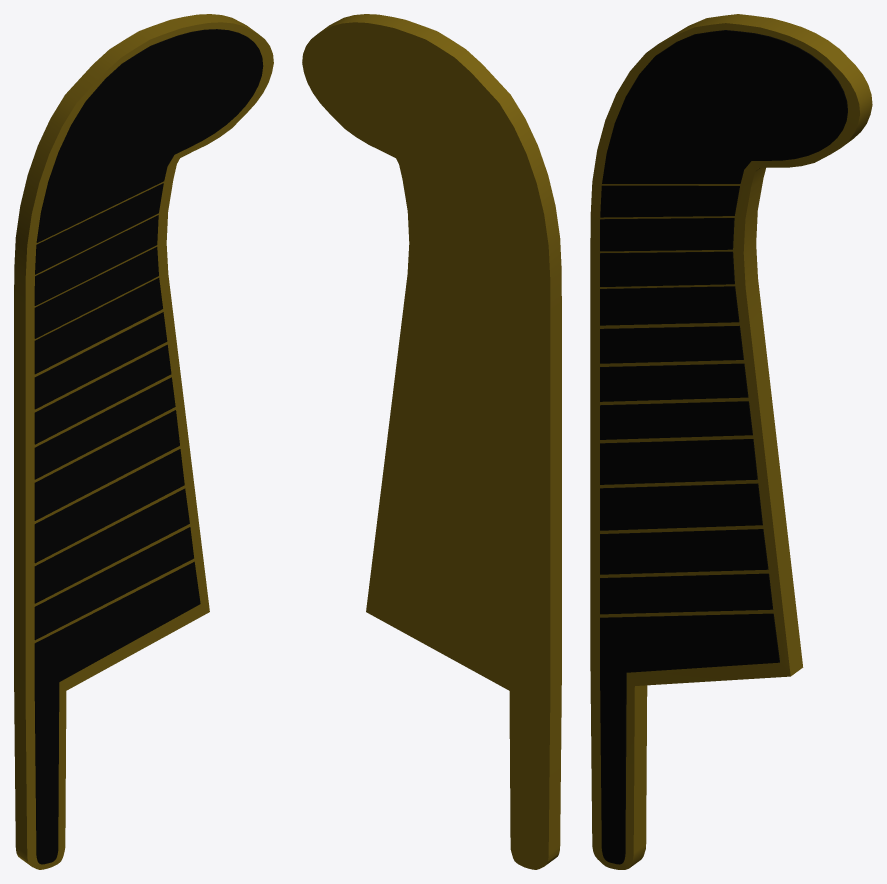
File: Cuerpo Roto Pluma.fbx
3 views of the same model, side by side, from view 1: azimuth 30°, elevation 25°; view 2: azimuth 150°, elevation 25°; view 3: azimuth 330°, elevation 25° (orthographic). The views are drawn at different scales.
Visible parts, largest first — view 1: pSphere17; view 2: pSphere17; view 3: pSphere17.
Part boxes in pixels (x1,y1,x2,y2): pSphere17: (14,14,273,869); pSphere17: (302,14,561,869); pSphere17: (590,14,872,869).
Size of the model in its own units: 1.53 by 4.74 by 0.1279.
